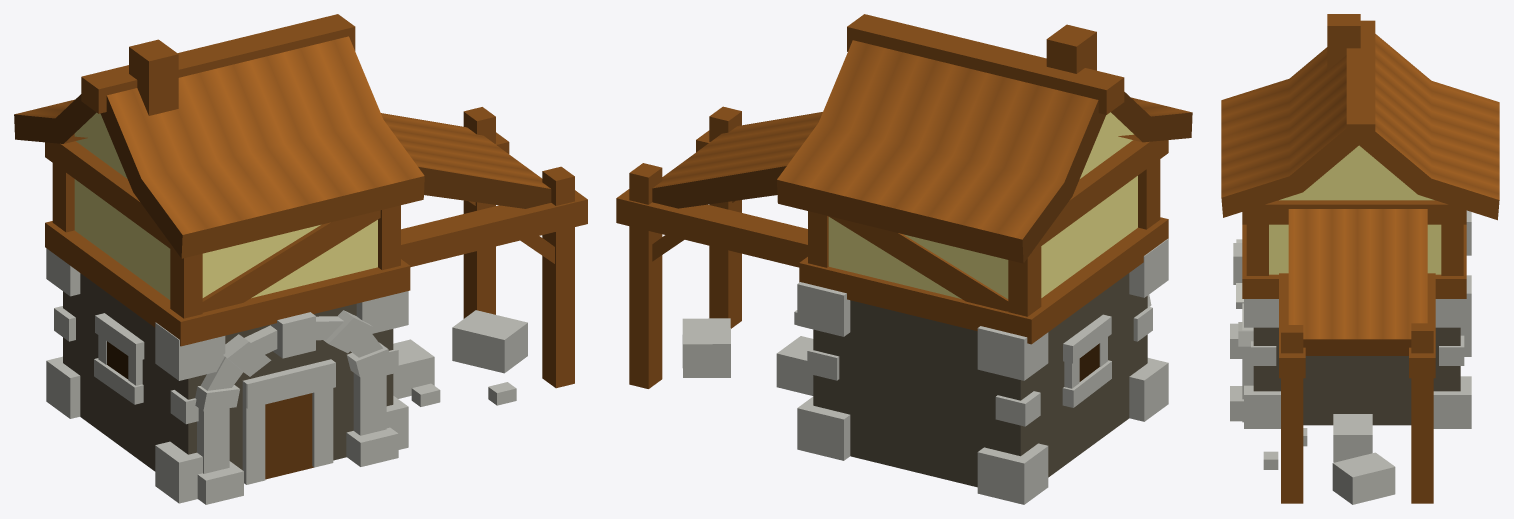
Rendered from mason.fbx.
3 views of the same model, side by side, from view 1: azimuth 30°, elevation 25°; view 2: azimuth 150°, elevation 25°; view 3: azimuth 270°, elevation 25° (orthographic). The views are drawn at different scales.
Visible parts, largest first — view 1: polySurface10; view 2: polySurface10; view 3: polySurface10.
Boxes of the visible parts, x1=… form: polySurface10: x1=14, y1=14, x2=587, y2=504; polySurface10: x1=616, y1=14, x2=1192, y2=504; polySurface10: x1=1221, y1=14, x2=1499, y2=504.
Size of the model in its own units: 169 by 145 by 110.
1 material, 1 textured.
